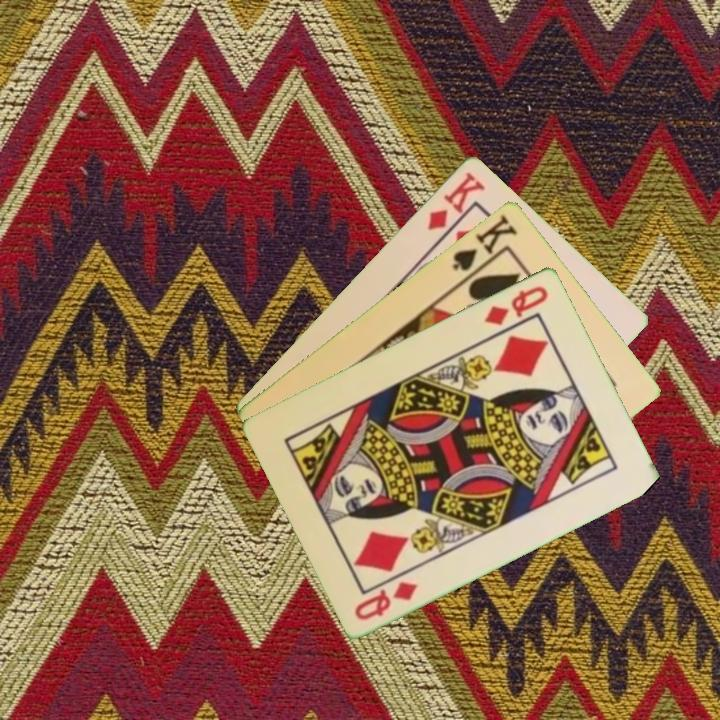Kd: (423, 167, 488, 233)
Ks: (448, 210, 521, 283)
Qd: (481, 281, 552, 328), (351, 577, 421, 623)
